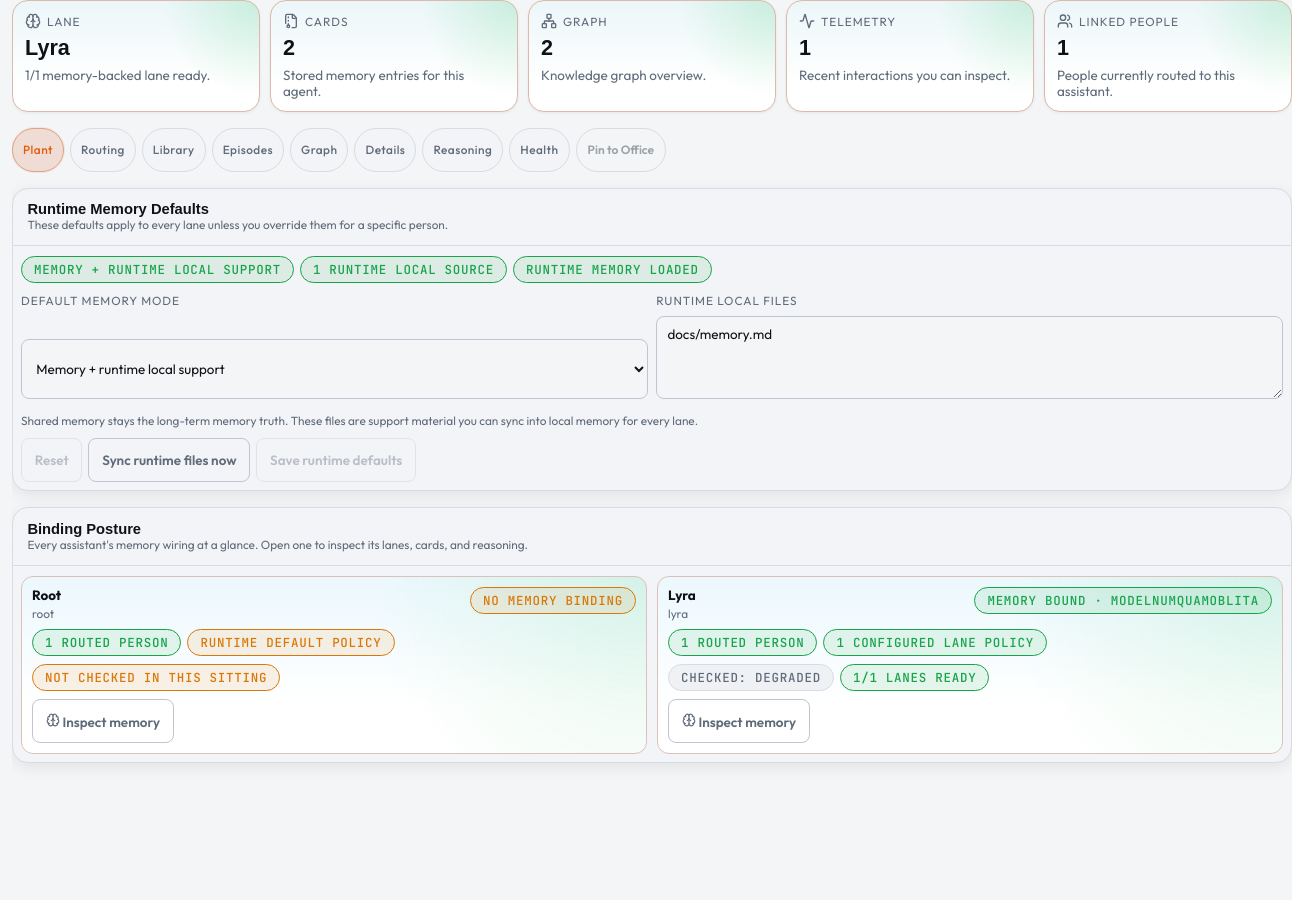
Test: MemoryPage surface gating and honest partial states › keeps reading under a degraded binding while warning honestly
What coordinates should you click on to do the following:
click the button "Library"
I would click on:
 (174, 150)
Its box is [142,128,206,172].
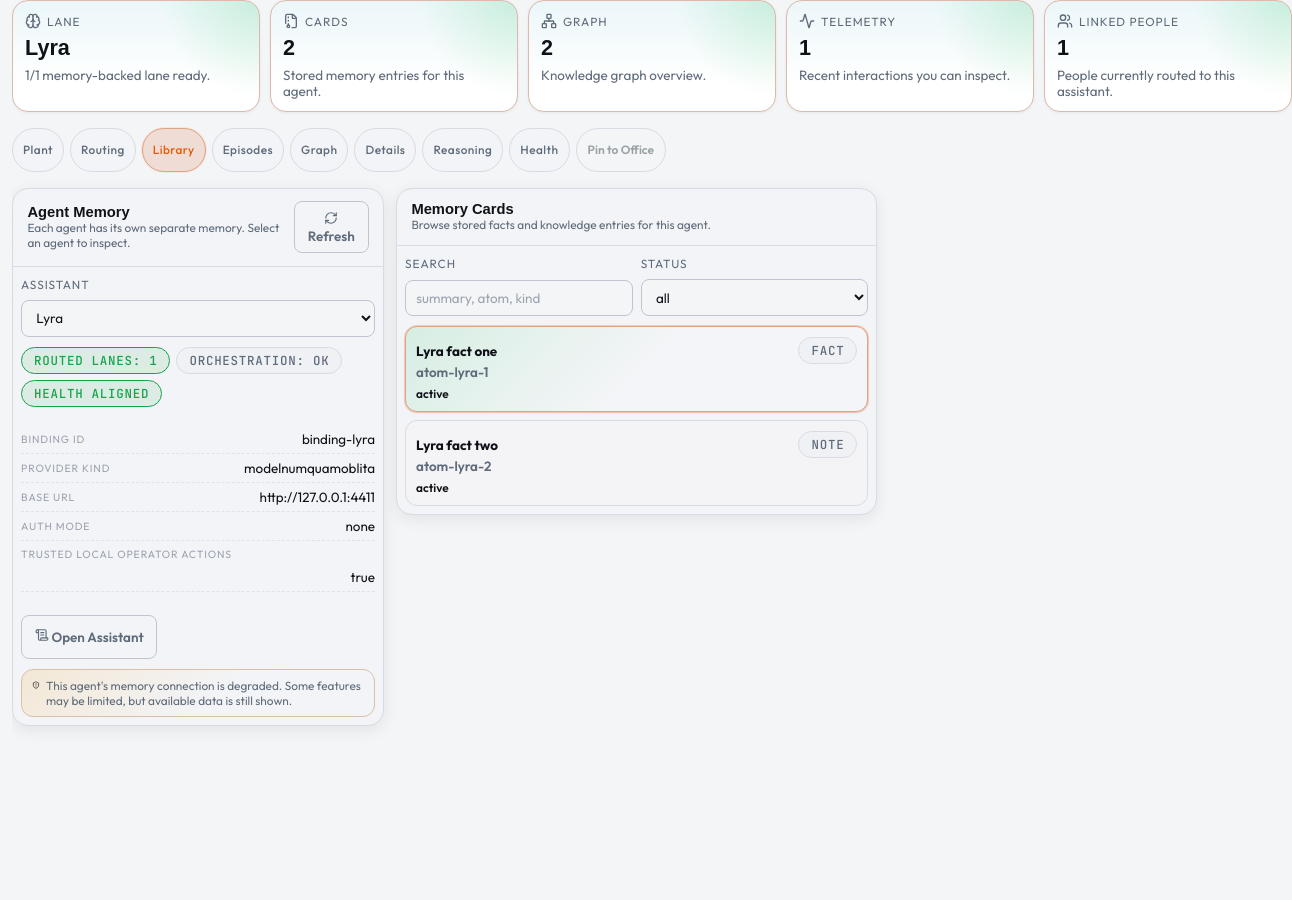
Result: the text "memory connection is degraded" is shown at [46,678,361,708]
Result: the text "Lyra fact one" is shown at [416,343,497,359]
